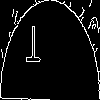T: (25, 25, 41, 73)
